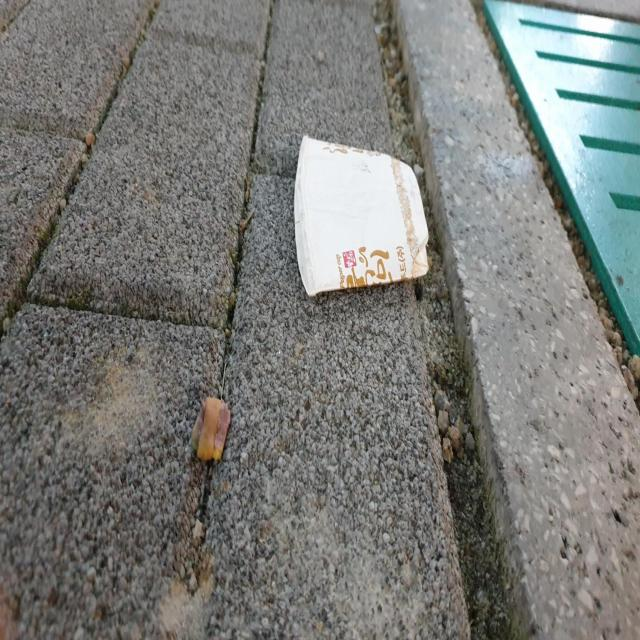paperpack: (295, 135, 429, 295)
